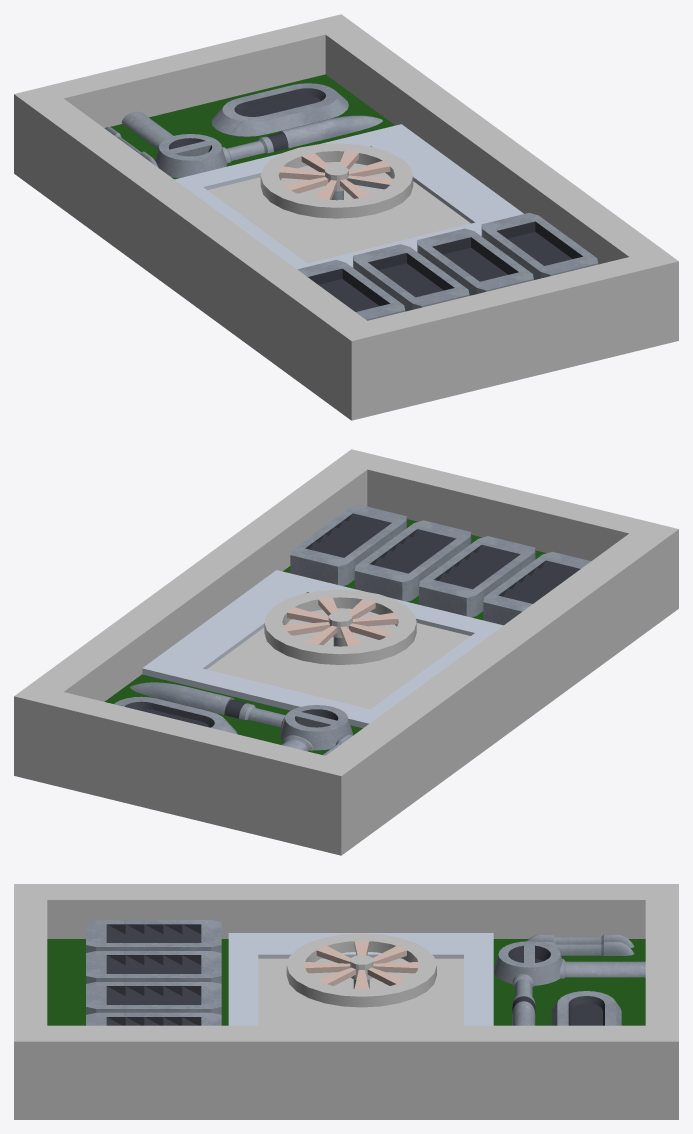
The model's file is diagnosticsPanel.fbx.
The picture shows the model from 3 angles, top to bottom: view 1: azimuth 30°, elevation 25°; view 2: azimuth 150°, elevation 25°; view 3: azimuth 270°, elevation 25°; orthographic projection.
Visible parts, largest first — view 1: mergedBlocks; view 2: mergedBlocks; view 3: mergedBlocks.
Boxes of the visible parts, x1,y1,x2,y2 form: mergedBlocks: [14, 14, 678, 420]; mergedBlocks: [14, 449, 678, 855]; mergedBlocks: [14, 884, 678, 1119].
Size of the model in its own units: 16.8 by 4 by 30.
